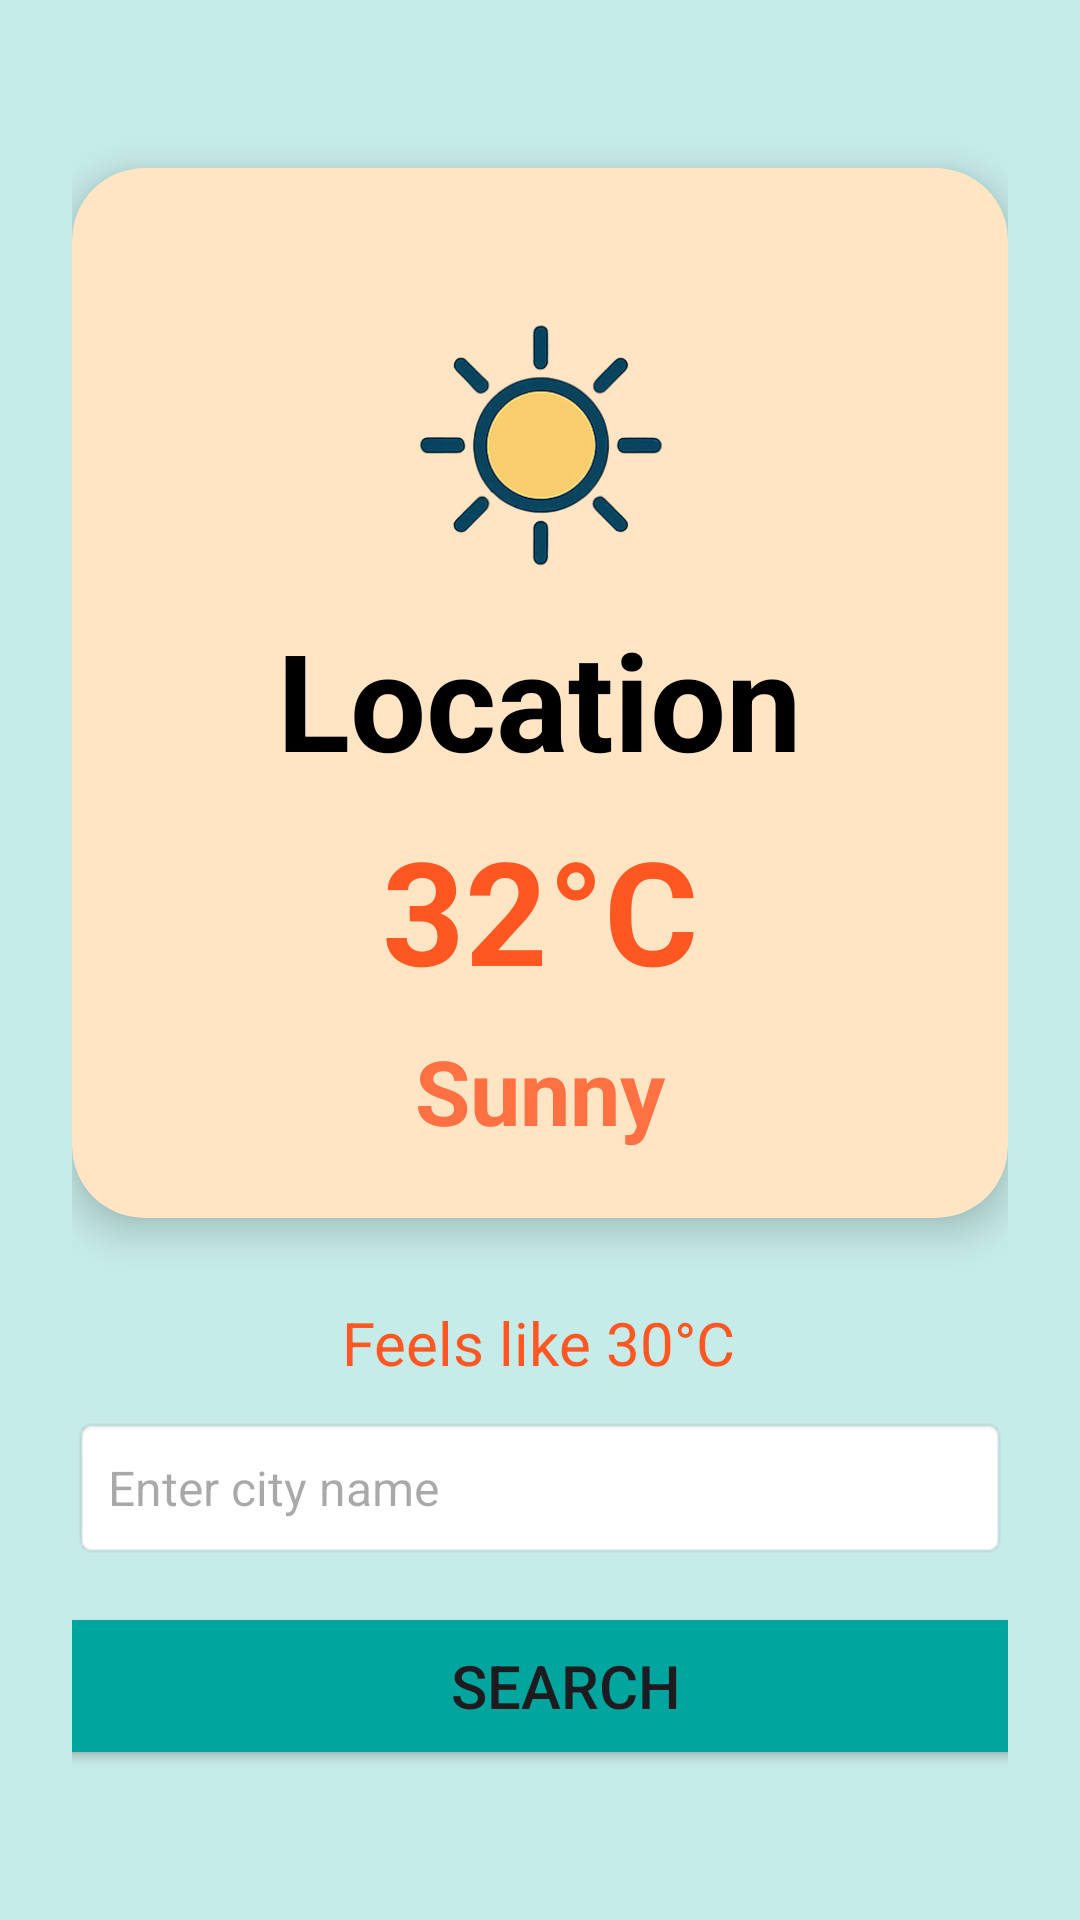

Screen size 1080 x 1920. Icon name, then its box in pixels as bbox=(x1, y1, x2, y2):
Weather Icon: bbox=(420, 325, 662, 566)
